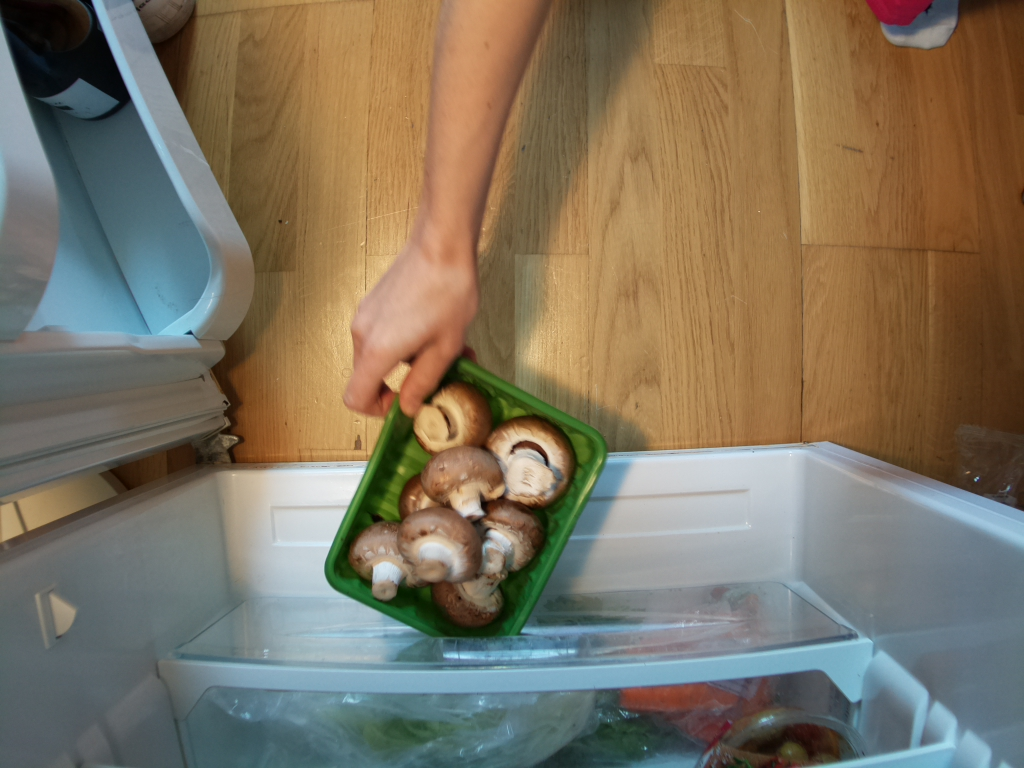mushrooms: (325, 339, 611, 646)
